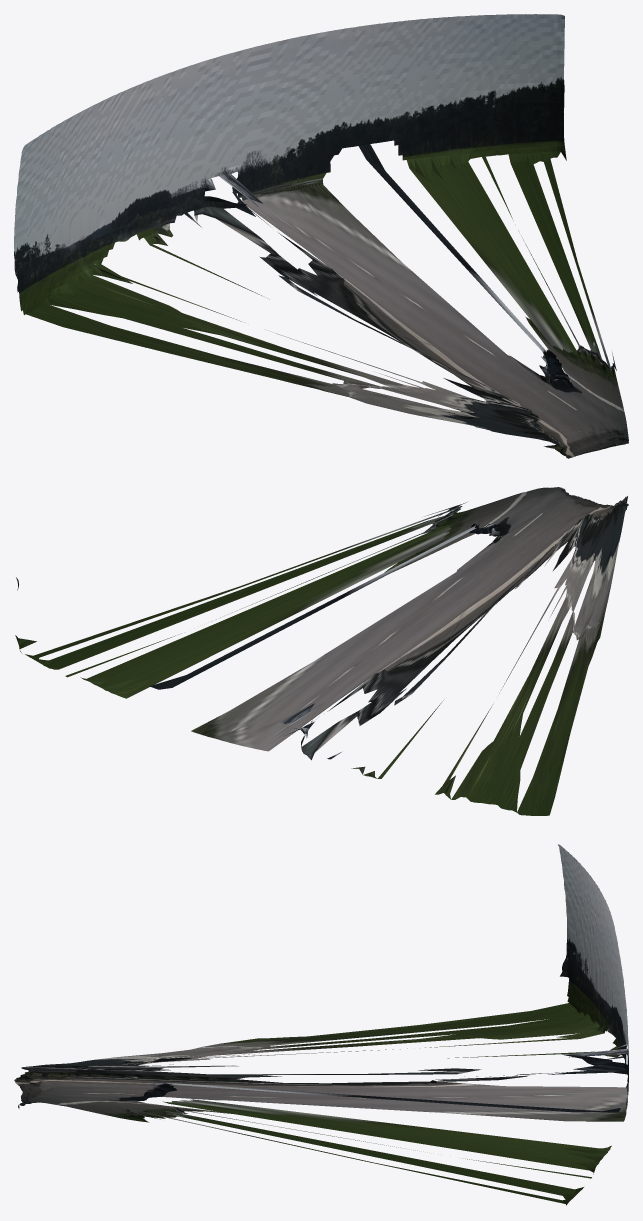
3 renders of one model, top to bottom at view 1: azimuth 30°, elevation 25°; view 2: azimuth 150°, elevation 25°; view 3: azimuth 270°, elevation 25°, orthographic. The views are drawn at different scales.
Visible parts, largest first — view 1: defaultobject; view 2: defaultobject; view 3: defaultobject.
Boxes of the visible parts, box(x1,y1,x2,y2) form: defaultobject: box(14, 14, 628, 458); defaultobject: box(15, 487, 628, 815); defaultobject: box(14, 844, 628, 1205).
Size of the model in its own units: 41.14 by 13.37 by 44.68.
Materials: 1 (1 with a texture image).
